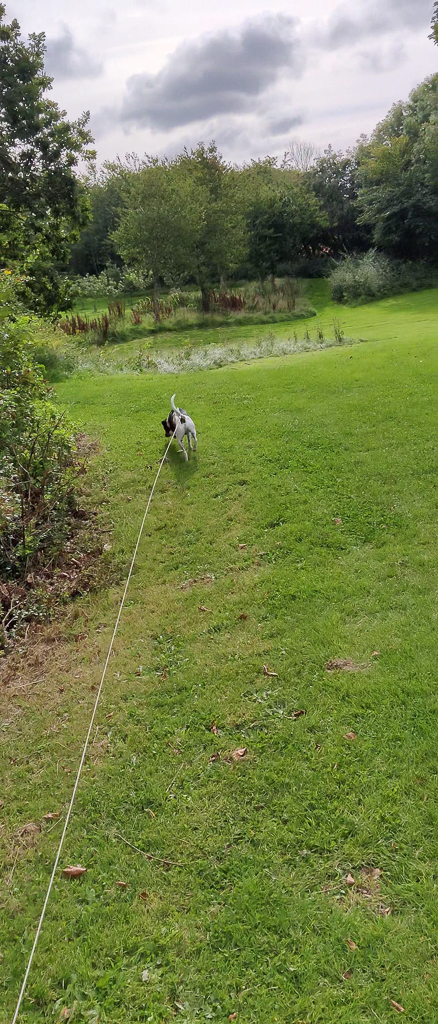Dog: (152, 392, 206, 465)
